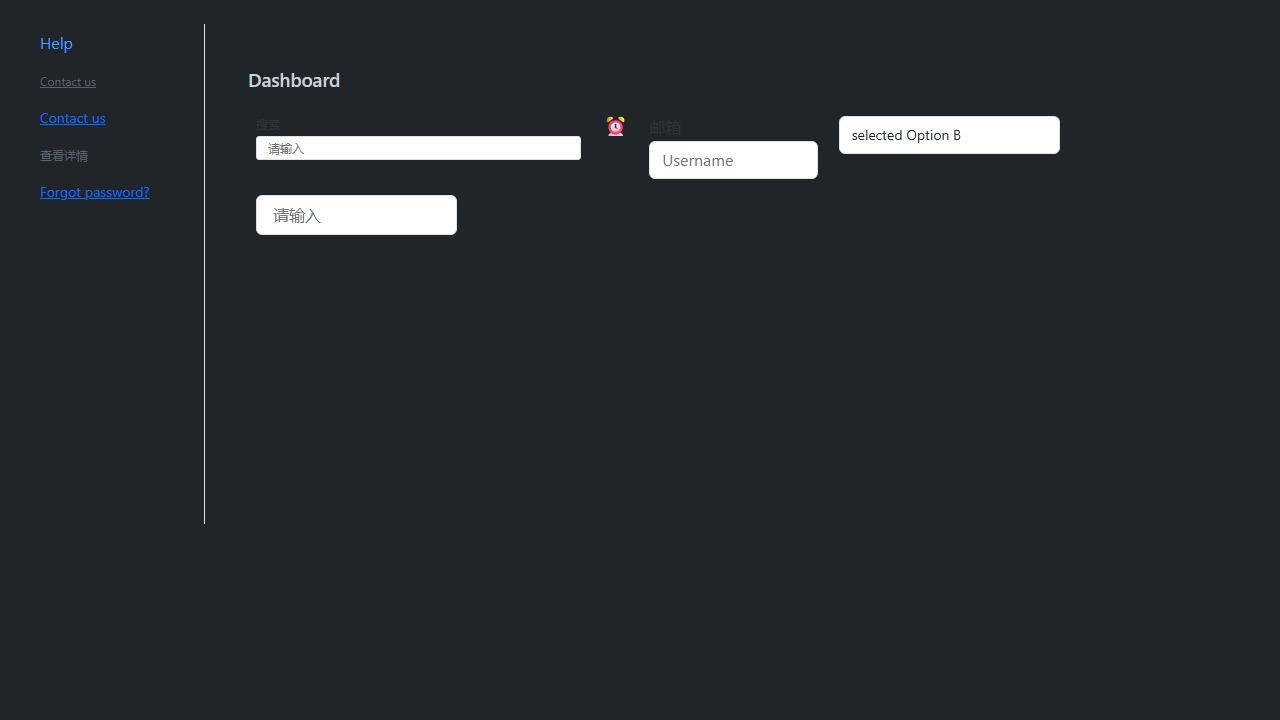icon: (601, 116, 629, 136)
input: (256, 195, 457, 235), (256, 136, 581, 160), (649, 141, 818, 179)
link: (40, 182, 150, 201), (40, 108, 106, 127), (40, 73, 96, 89), (40, 147, 88, 163), (40, 32, 73, 53)
select: (839, 116, 1060, 154)
